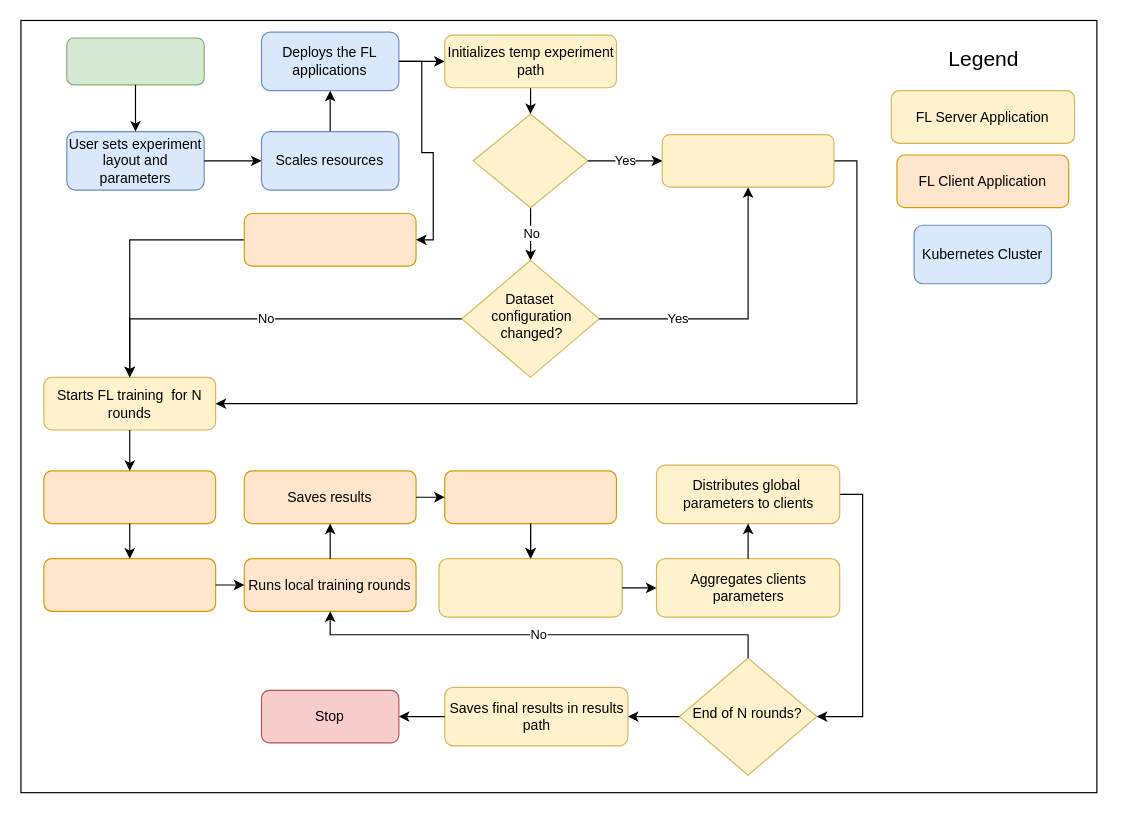
Image size: 1141x813. Some labels were removed from this diagram. Here are the shapes that lost their labels. From the top down, the centre of each, then its label:
the point at 135,61: Start
the point at 530,160: Is a new experiment?
the point at 747,160: Creates new data distribution
the point at 329,239: Waits for Server
the point at 129,497: Loads its distributed data batch
the point at 530,497: Returns model parameters to Server
the point at 129,584: Connects to Server via SSL gRPC connetion
the point at 530,587: Receives clients parameters
